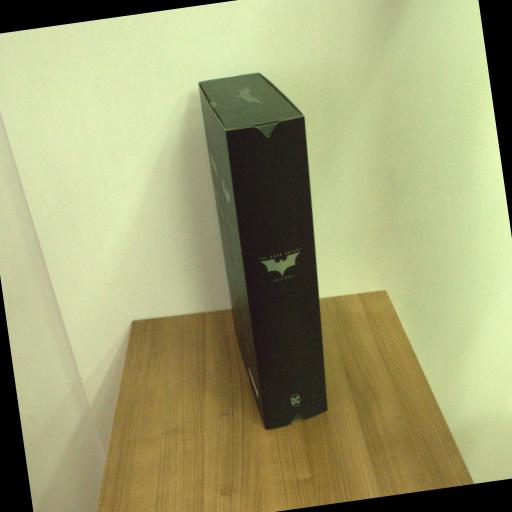catwoman: (198, 68, 346, 434)
